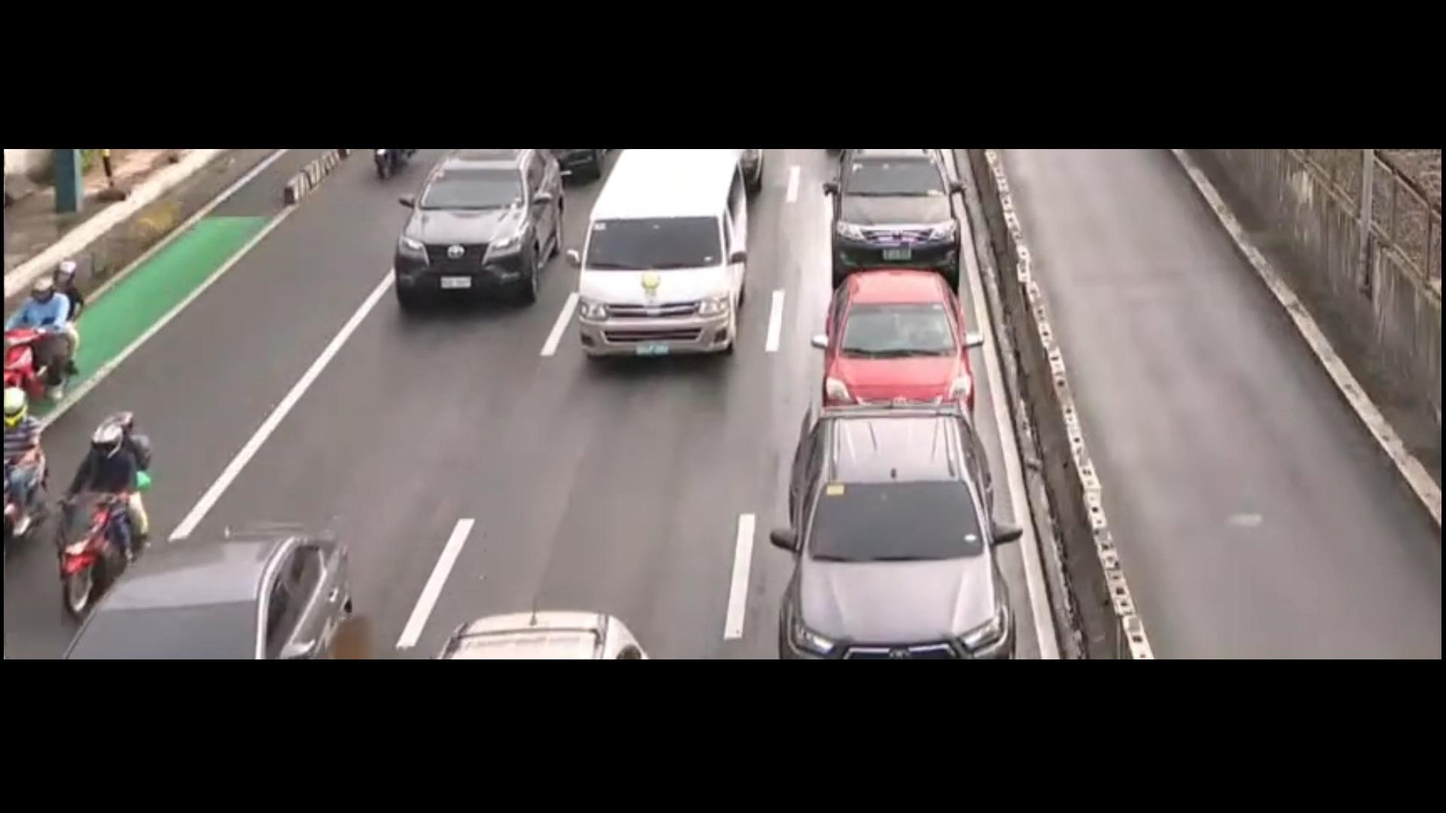Motorcycle: (48, 386, 172, 624), (0, 243, 111, 419), (0, 362, 59, 559)
SUV: (763, 394, 1025, 655), (382, 140, 582, 342), (820, 132, 979, 280)
Sedan: (64, 510, 373, 667), (811, 266, 987, 423)
Van: (557, 147, 772, 381)
